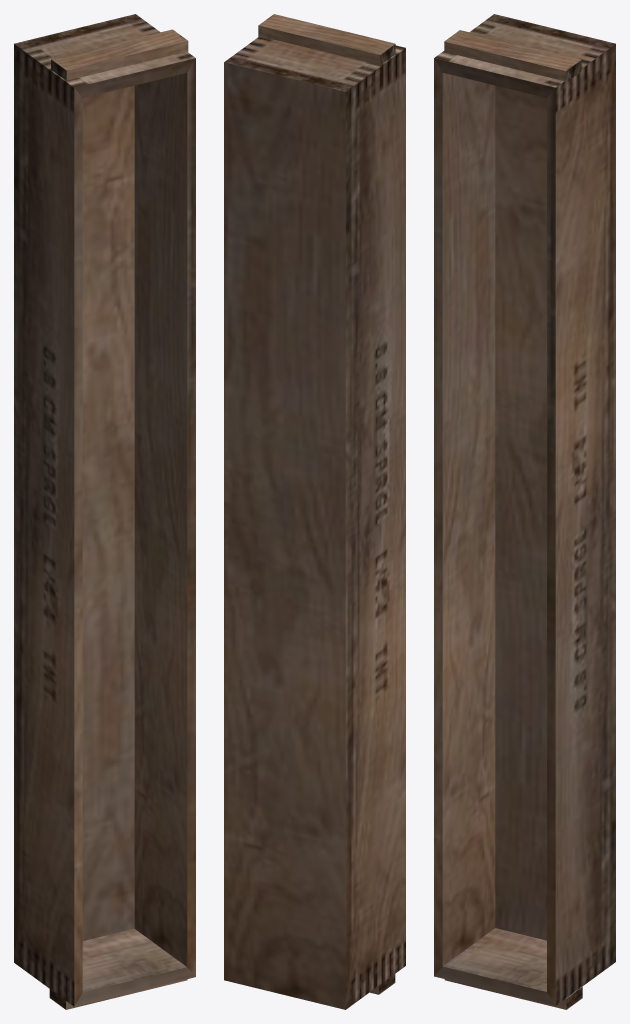
File: military_flak88_box_empty.glb
3 views of the same model, side by side, from view 1: azimuth 30°, elevation 25°; view 2: azimuth 150°, elevation 25°; view 3: azimuth 330°, elevation 25° (orthographic).
Size of the model in its own units: 5.58 by 40.7 by 4.73.
1 material, 1 textured.
